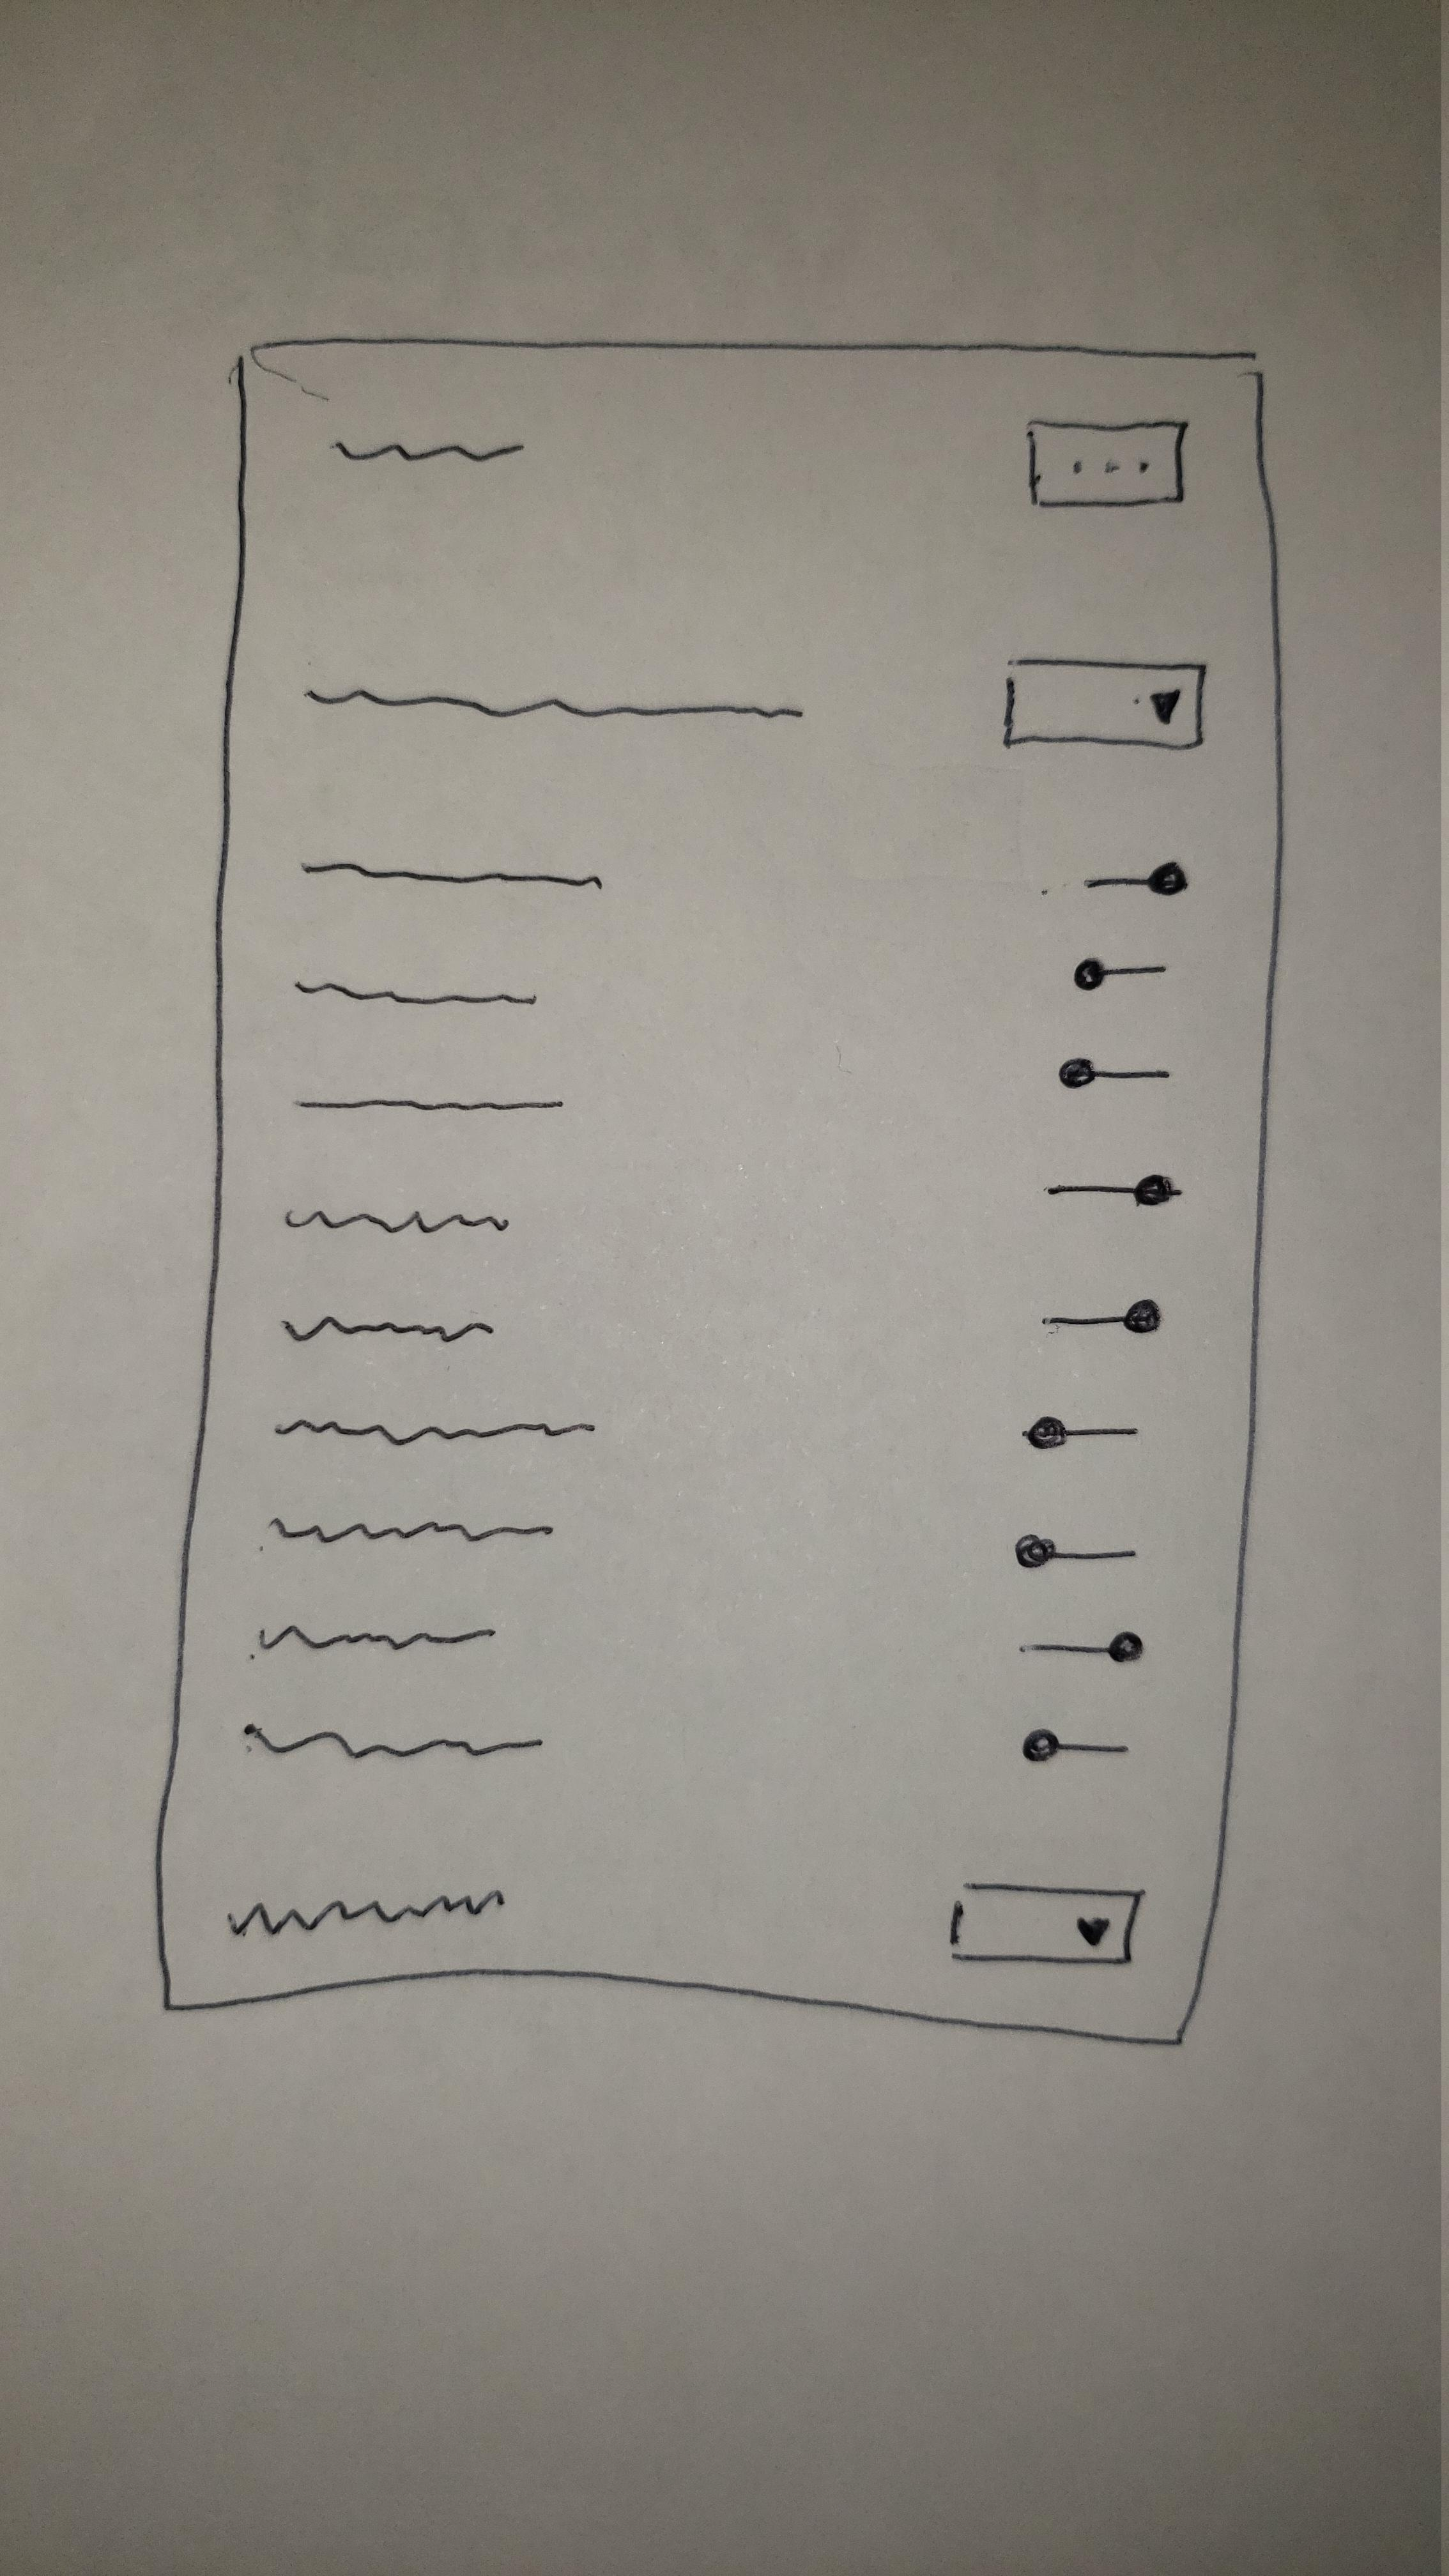Button: (1024, 418, 1187, 508)
Label: (306, 679, 807, 722), (226, 1888, 510, 1937), (334, 433, 525, 462)
ListPicker: (1001, 658, 1205, 750), (945, 1884, 1143, 1967)
Screen: (152, 331, 1284, 2045)
Switch: (285, 1177, 1180, 1235), (292, 1056, 1169, 1113), (292, 853, 1189, 901), (271, 1518, 1132, 1568), (283, 1299, 1161, 1346), (292, 959, 1168, 1005), (241, 1723, 1127, 1762), (260, 1626, 1143, 1663), (274, 1417, 1134, 1449)
